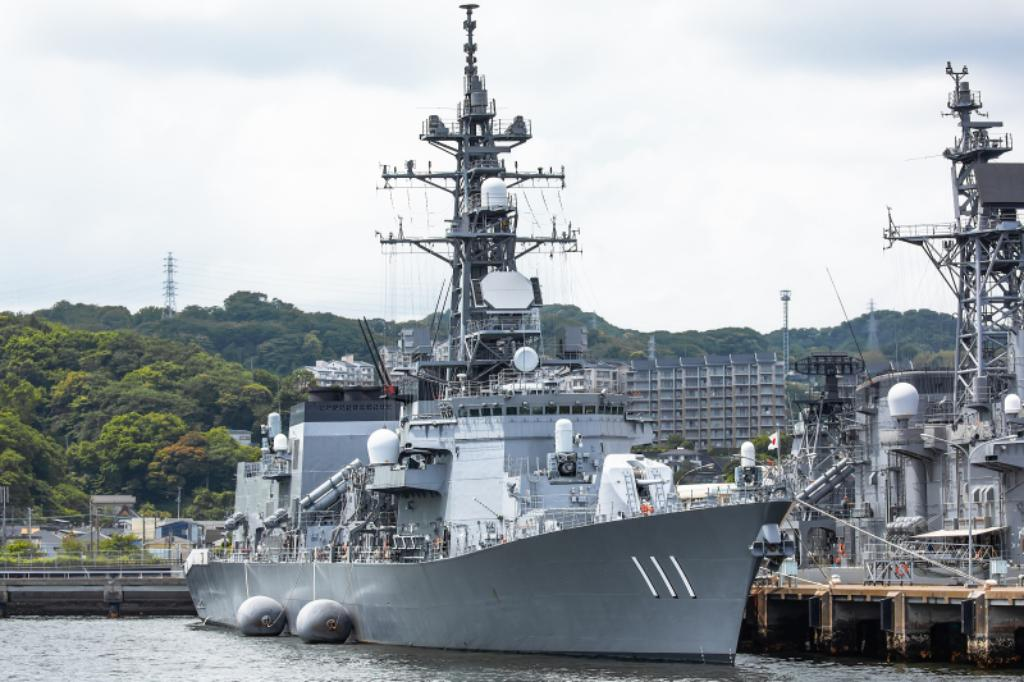Warship: (182, 0, 800, 670)
